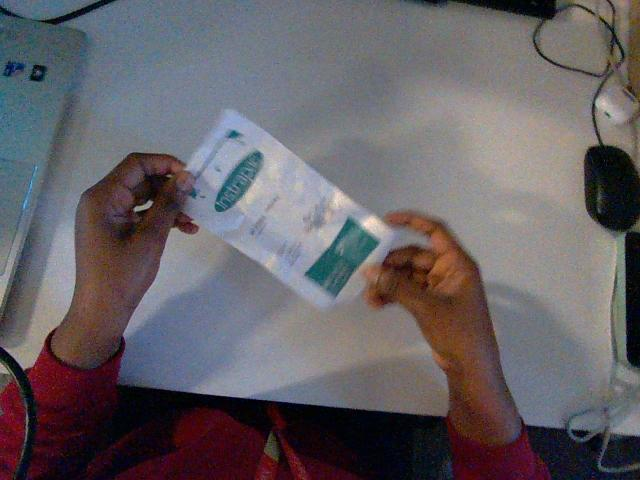gallipot: (184, 110, 393, 308)
